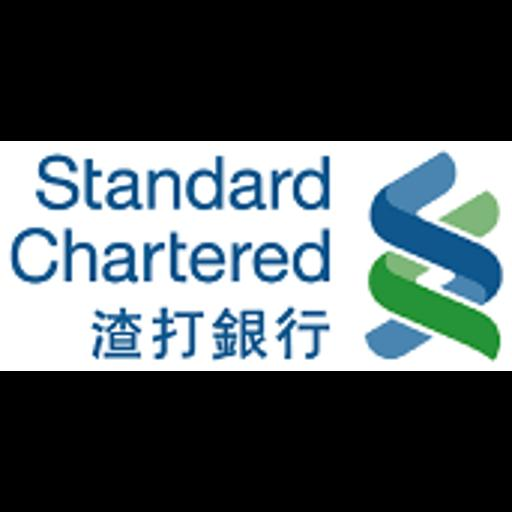Standard Chartered Bank: (0, 141, 512, 371)
